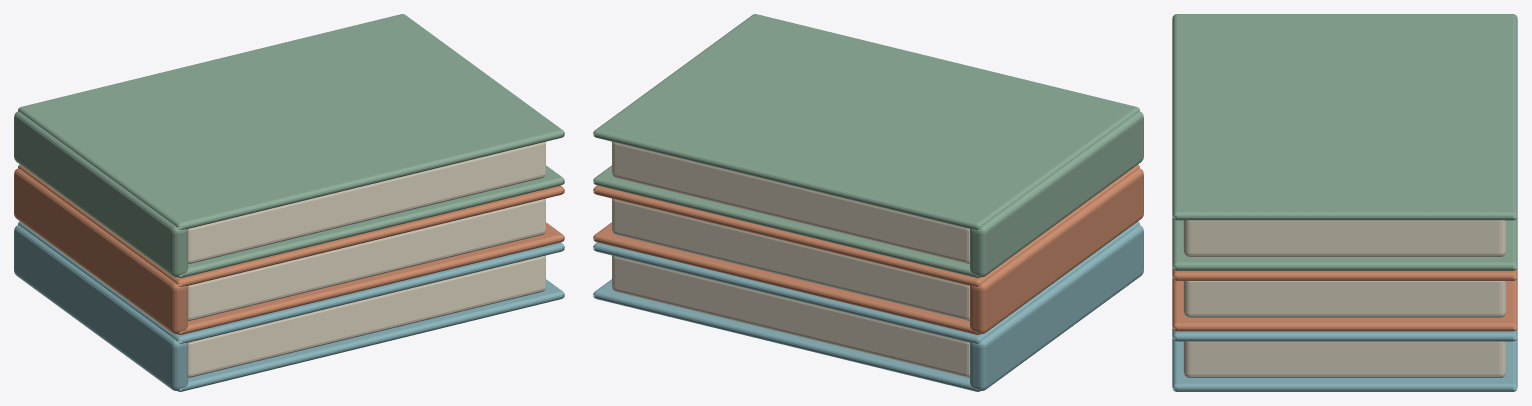
File: Book_Stack.glb
3 views of the same model, side by side, from view 1: azimuth 30°, elevation 25°; view 2: azimuth 150°, elevation 25°; view 3: azimuth 270°, elevation 25° (orthographic). The views are drawn at different scales.
Visible parts, largest first — view 1: Book_Stack_Mesh; view 2: Book_Stack_Mesh; view 3: Book_Stack_Mesh.
Boxes of the visible parts, <box> form: Book_Stack_Mesh: <box>14,14,564,391</box>; Book_Stack_Mesh: <box>593,14,1143,391</box>; Book_Stack_Mesh: <box>1172,14,1517,391</box>.
Bounding box in the file's own units: 0.2165 × 0.089 × 0.155.
